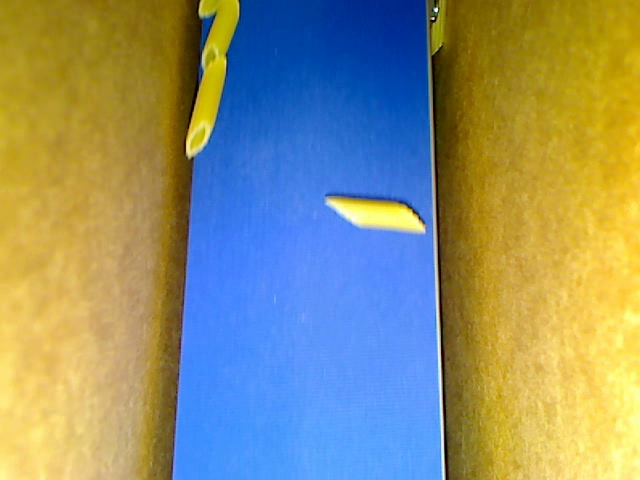penne: (183, 58, 228, 158), (325, 197, 427, 238), (198, 1, 238, 73), (426, 1, 448, 60), (194, 1, 222, 17)
